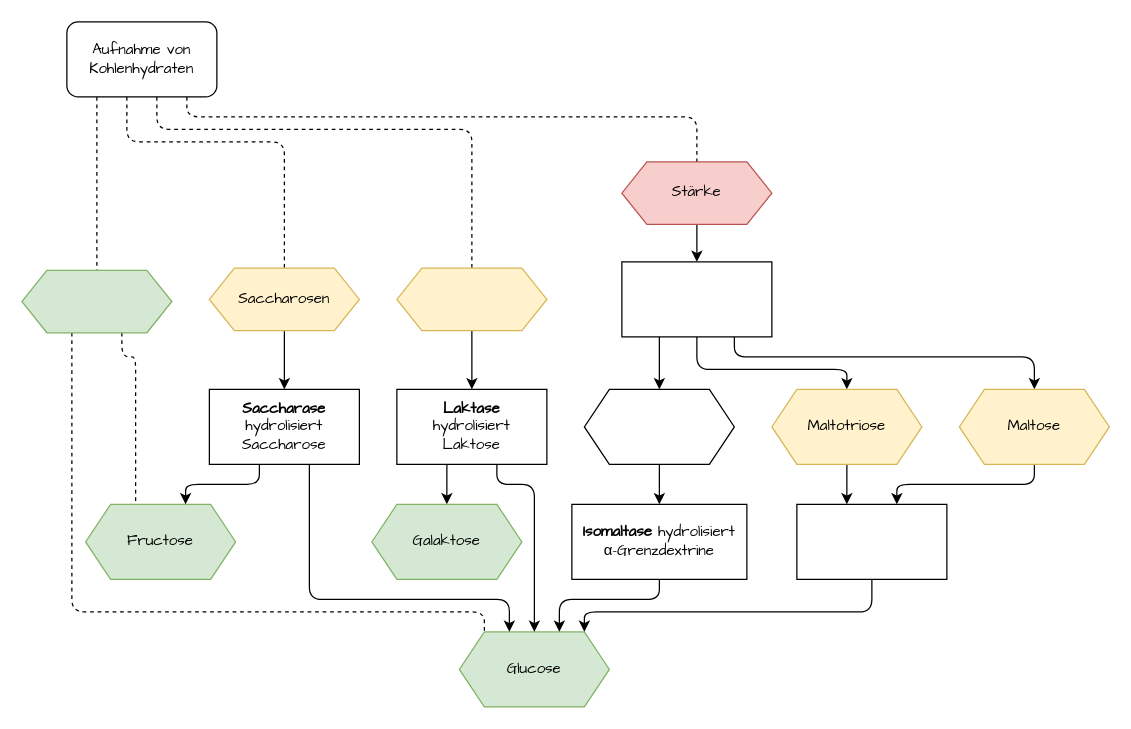
Some shapes in this 1131 by 729 pixel diagram are drawn without their labels. Each missing label, with the centre of its shape:
Laktose: the point at 471,299
Maltase hydrolisiert Maltose & Maltotriose: the point at 871,541
Monosaccharide: the point at 96,301
α-Amylase hydrolisiert Stärke: the point at 696,299
α-Grenzdextrine: the point at 658,426
